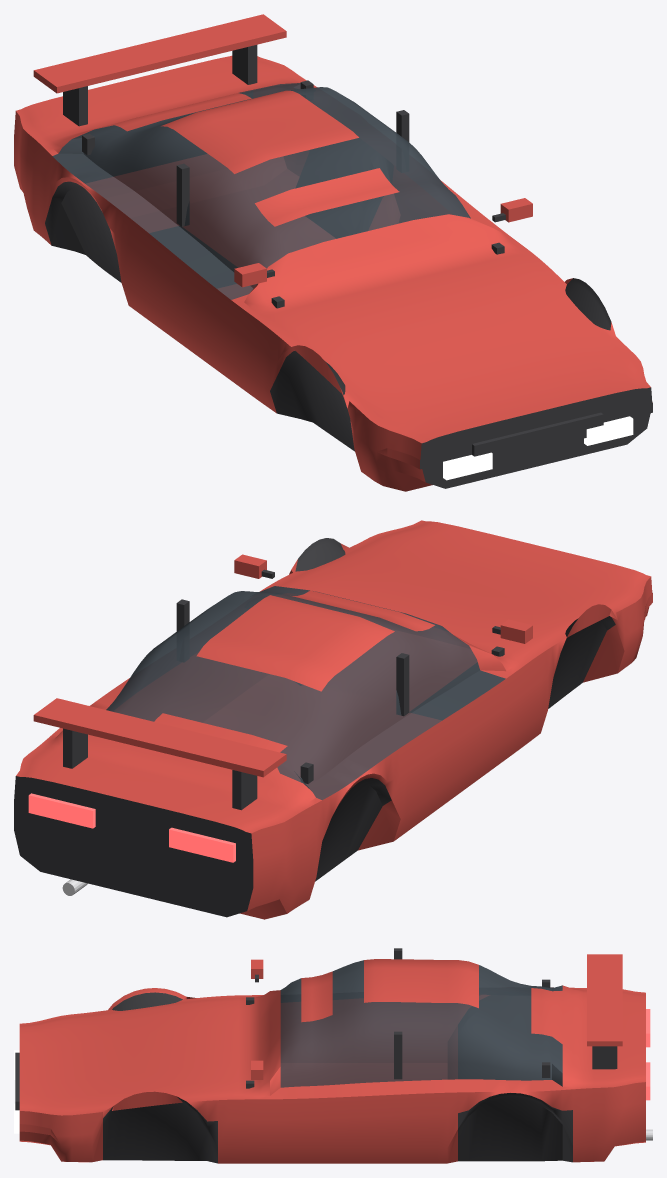
3 renders of one model, top to bottom at view 1: azimuth 30°, elevation 25°; view 2: azimuth 150°, elevation 25°; view 3: azimuth 270°, elevation 25°, orthographic. The views are drawn at different scales.
Visible parts, largest first — view 1: Body, Wing, Grille, HeadLamp, HeadLamp.001, WingStay.001, WingStay, BPillar.001; view 2: Body, Wing, TailLamp.001, TailLamp, WingStay, WingStay.001, BPillar.001, Mirror, Mirror.001; view 3: Body, Wing, WingStay.001, BPillar.
Part boxes in pixels (x1,y1,x2,y2): Body: (14, 55, 652, 491); Wing: (33, 14, 286, 93); Grille: (472, 412, 603, 460); HeadLamp: (443, 452, 492, 480); HeadLamp.001: (584, 416, 633, 445); WingStay.001: (232, 45, 257, 84); WingStay: (63, 86, 87, 126); BPillar.001: (176, 163, 189, 226); Body: (14, 520, 652, 919); Wing: (33, 698, 286, 777); TailLamp.001: (28, 793, 95, 828); TailLamp: (169, 827, 235, 862); WingStay: (232, 770, 257, 810); WingStay.001: (63, 728, 87, 768); BPillar.001: (396, 653, 409, 716); Mirror: (500, 619, 532, 643); Mirror.001: (234, 554, 266, 578); Body: (19, 959, 645, 1163); Wing: (587, 954, 622, 1046); WingStay.001: (592, 1046, 617, 1069); BPillar: (394, 1031, 402, 1079).
Size of the model in its own units: 1.9 by 1.1 by 4.64.
